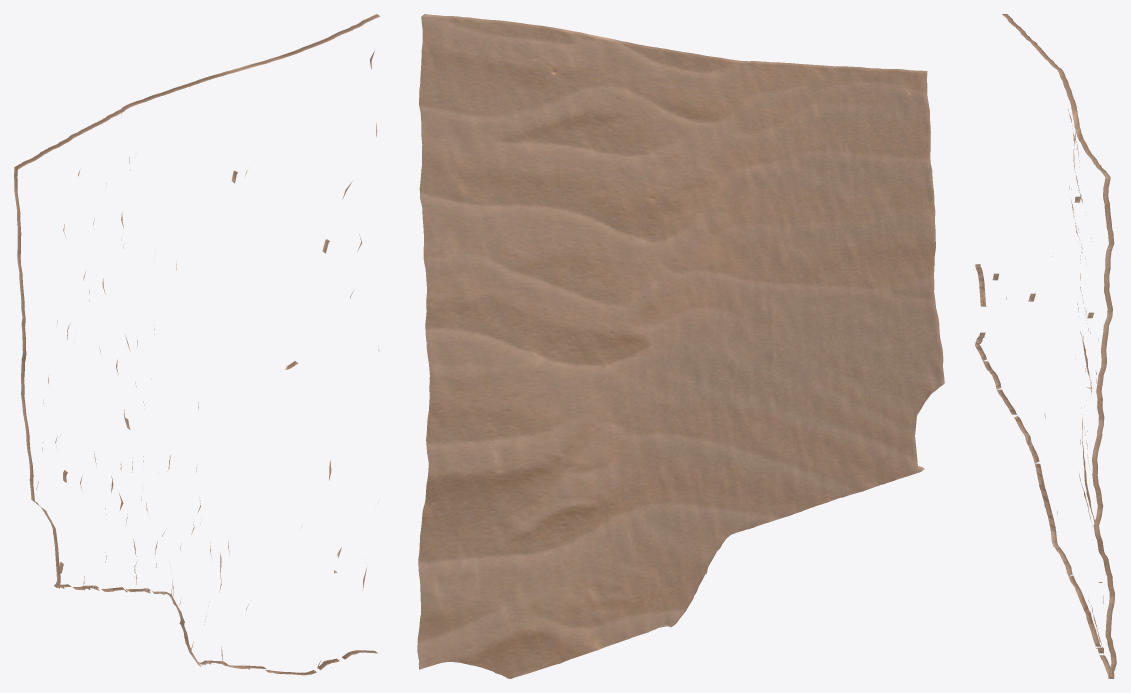
The picture shows the model from 3 angles, left to right: view 1: azimuth 30°, elevation 25°; view 2: azimuth 150°, elevation 25°; view 3: azimuth 270°, elevation 25°; orthographic projection. The views are drawn at different scales.
Bounding box in the file's own units: 0.7209 × 1.03 × 0.2678.
Materials: 1 (1 with a texture image).
